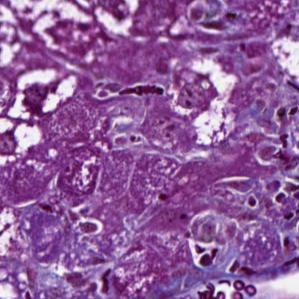inflammation: (6, 64, 85, 122), (93, 74, 167, 102)
